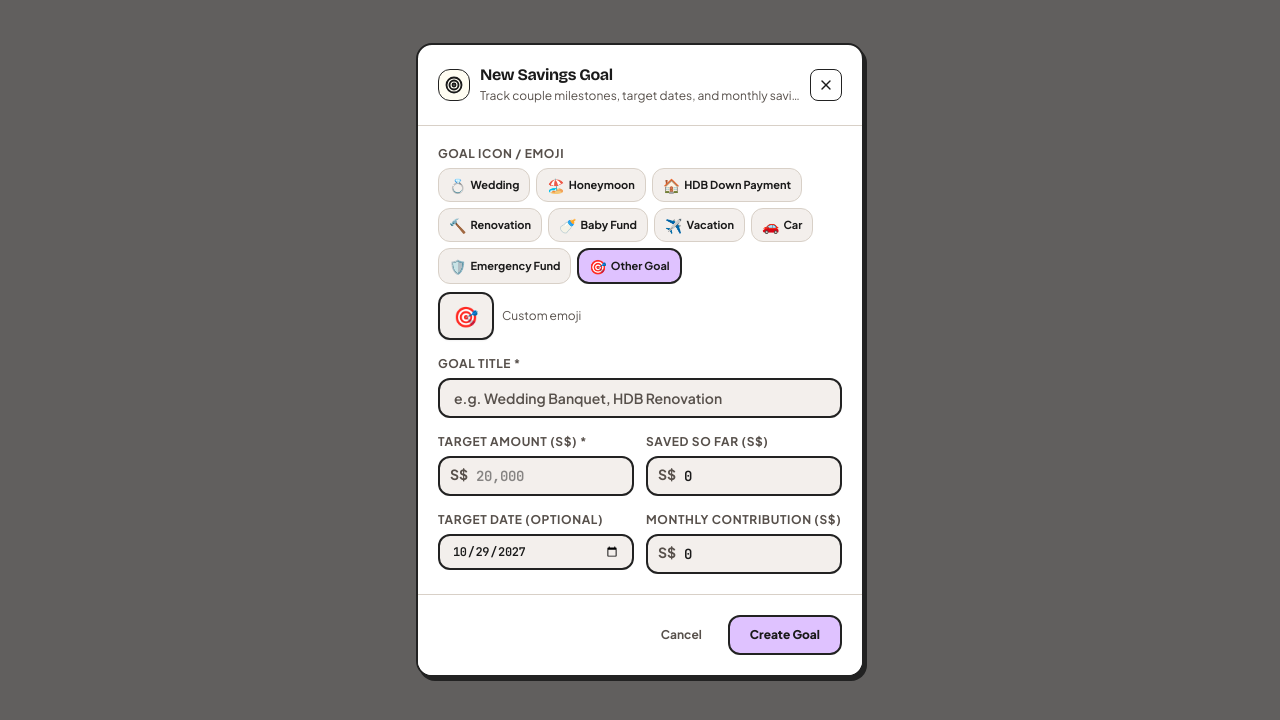
it: AddEditGoalModal Component › validates required fields before submitting
Click the button "Create Goal".
click(785, 635)  # box x1=728 y1=615 x2=842 y2=655
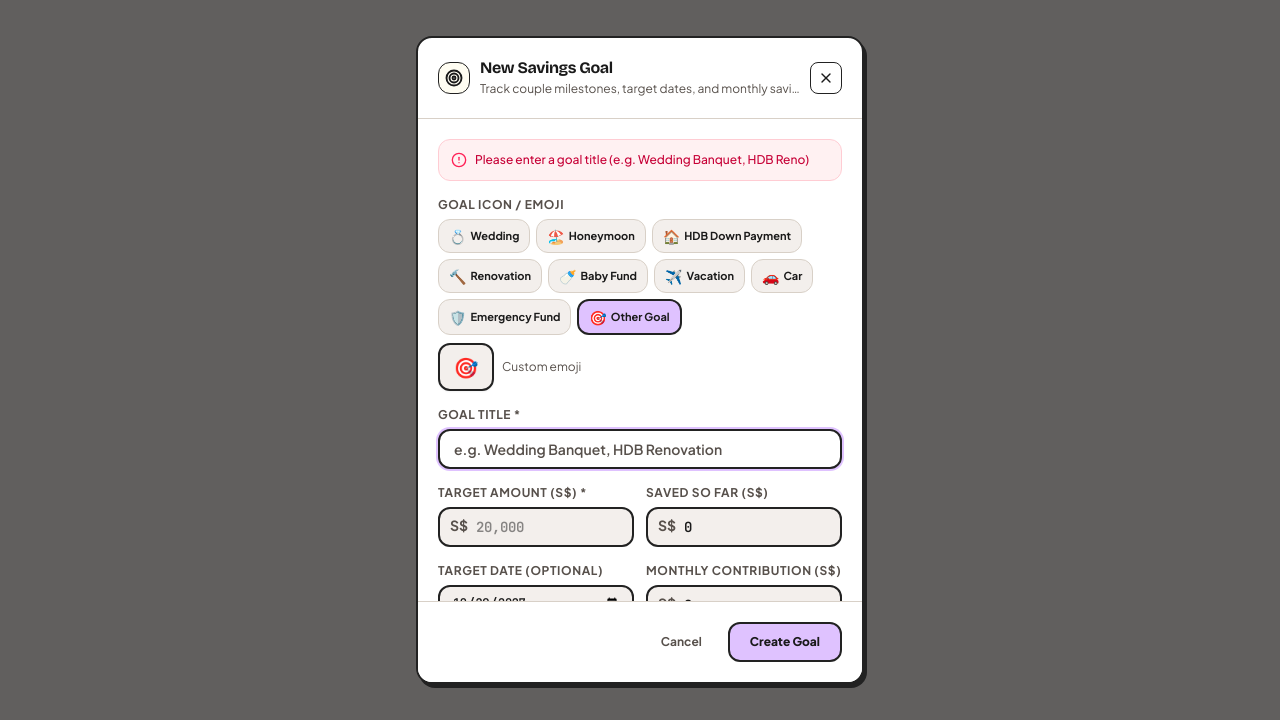
Check: the text "Please enter a goal title (e.g. Wedding Banquet, HDB Reno)" is shown, box x1=475 y1=152 x2=809 y2=168
